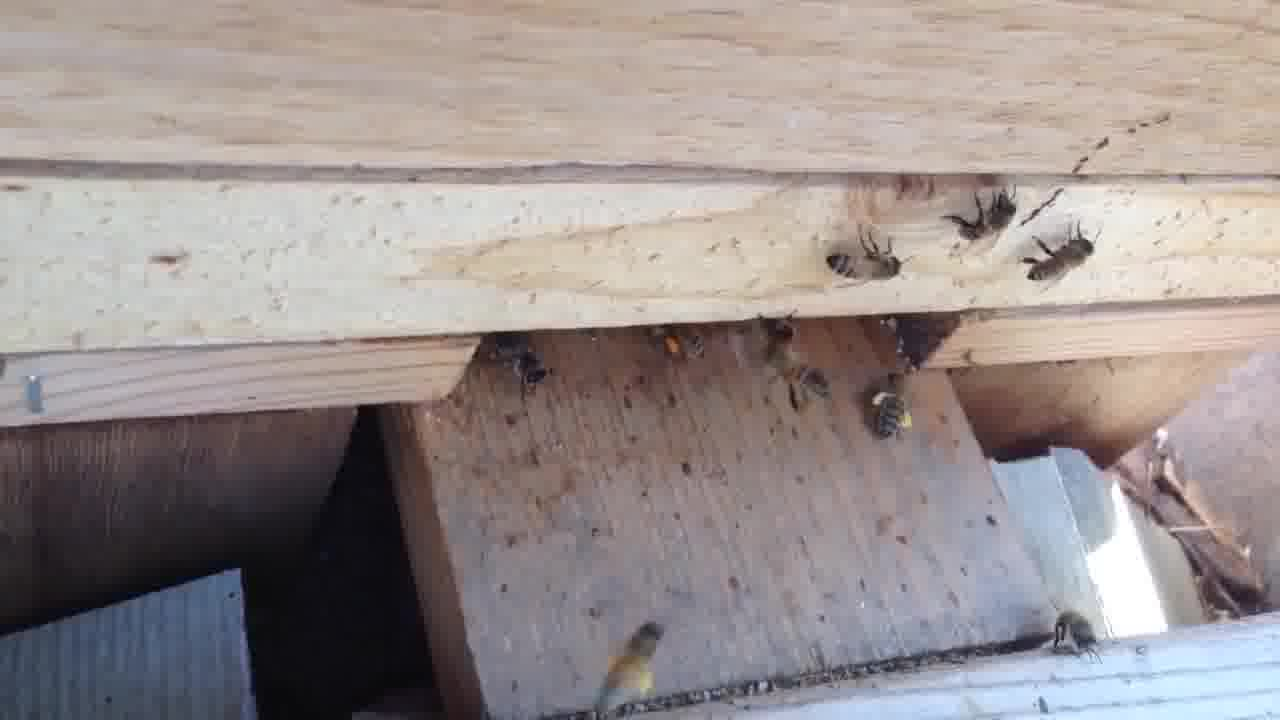pollen: (586, 609, 667, 708), (866, 366, 921, 434)
